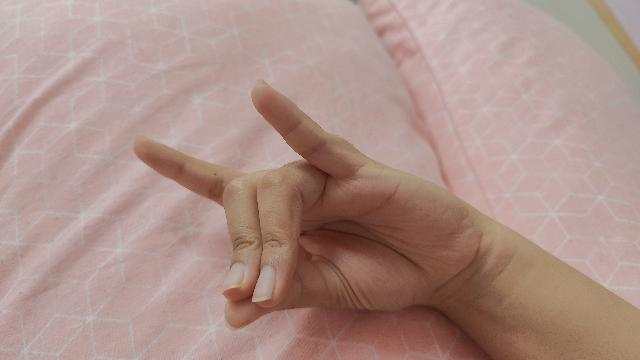sinhamukh: (130, 81, 640, 360)
